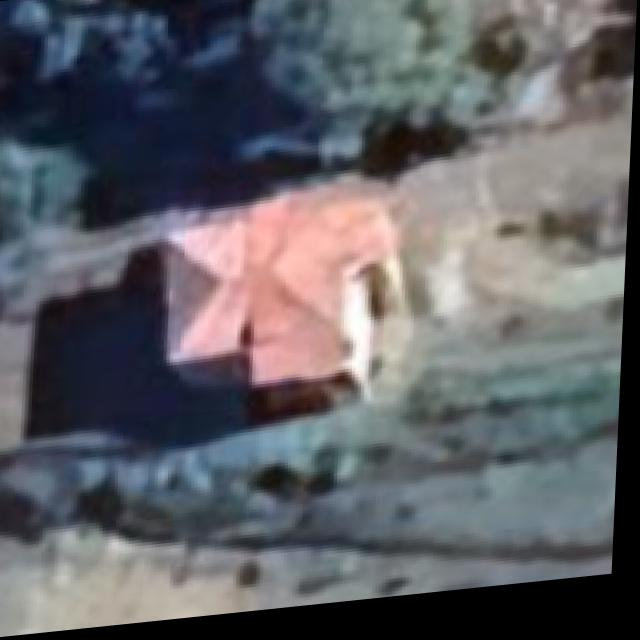Batiment: (167, 194, 401, 429)
